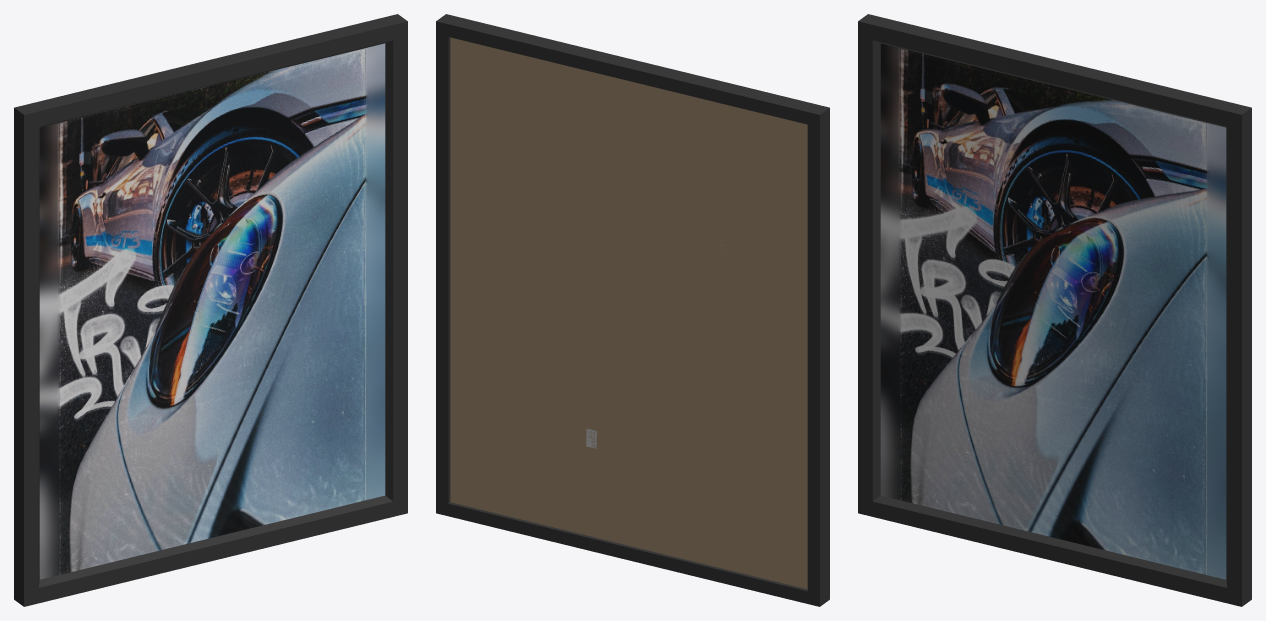
File: gt3-street-eyes-40x50.glb
3 renders of one model, left to right at view 1: azimuth 30°, elevation 25°; view 2: azimuth 150°, elevation 25°; view 3: azimuth 330°, elevation 25°, orthographic.
Parts seen in each view (by area): view 1: LAWHA 40x50; view 2: LAWHA 40x50; view 3: LAWHA 40x50.
Boxes of the visible parts, x1,y1,x2,y2 form: LAWHA 40x50: (14, 14, 407, 606); LAWHA 40x50: (436, 14, 829, 606); LAWHA 40x50: (858, 14, 1251, 606).
Size of the model in its own units: 0.444 by 0.544 by 0.02.
4 materials, 1 textured.
